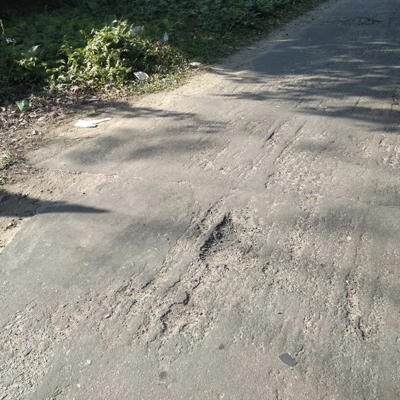pothole: (197, 212, 250, 269), (158, 295, 205, 337)
